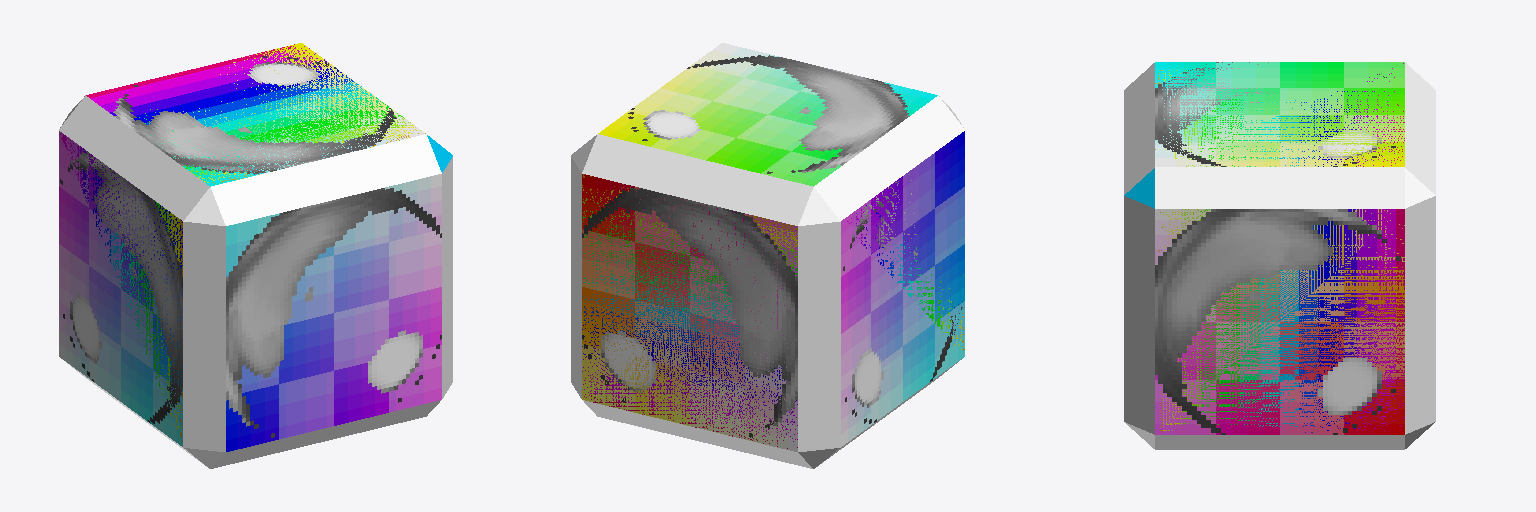
3 renders of one model, left to right at view 1: azimuth 30°, elevation 25°; view 2: azimuth 150°, elevation 25°; view 3: azimuth 270°, elevation 25°, orthographic.
Visible parts, largest first — view 1: itembox_lan, itembox_normal.001, itembox_normal.003, itembox_normal; view 2: itembox_lan, itembox_normal.001, itembox_normal.003, itembox_normal; view 3: itembox_lan, itembox_normal.003, itembox_normal.001, itembox_normal.
Part boxes in pixels (bbox=[...]): itembox_lan: bbox=[59, 43, 441, 468]; itembox_normal.001: bbox=[60, 56, 441, 437]; itembox_normal.003: bbox=[59, 95, 452, 467]; itembox_normal: bbox=[60, 44, 425, 441]; itembox_lan: bbox=[571, 43, 964, 453]; itembox_normal.001: bbox=[582, 55, 962, 437]; itembox_normal.003: bbox=[571, 95, 961, 468]; itembox_normal: bbox=[582, 174, 964, 448]; itembox_lan: bbox=[1155, 62, 1435, 434]; itembox_normal.003: bbox=[1124, 63, 1435, 449]; itembox_normal.001: bbox=[1155, 62, 1400, 434]; itembox_normal: bbox=[1155, 63, 1404, 432].
Bounding box in the file's own units: 168 × 168 × 168.
5 materials, 4 textured.